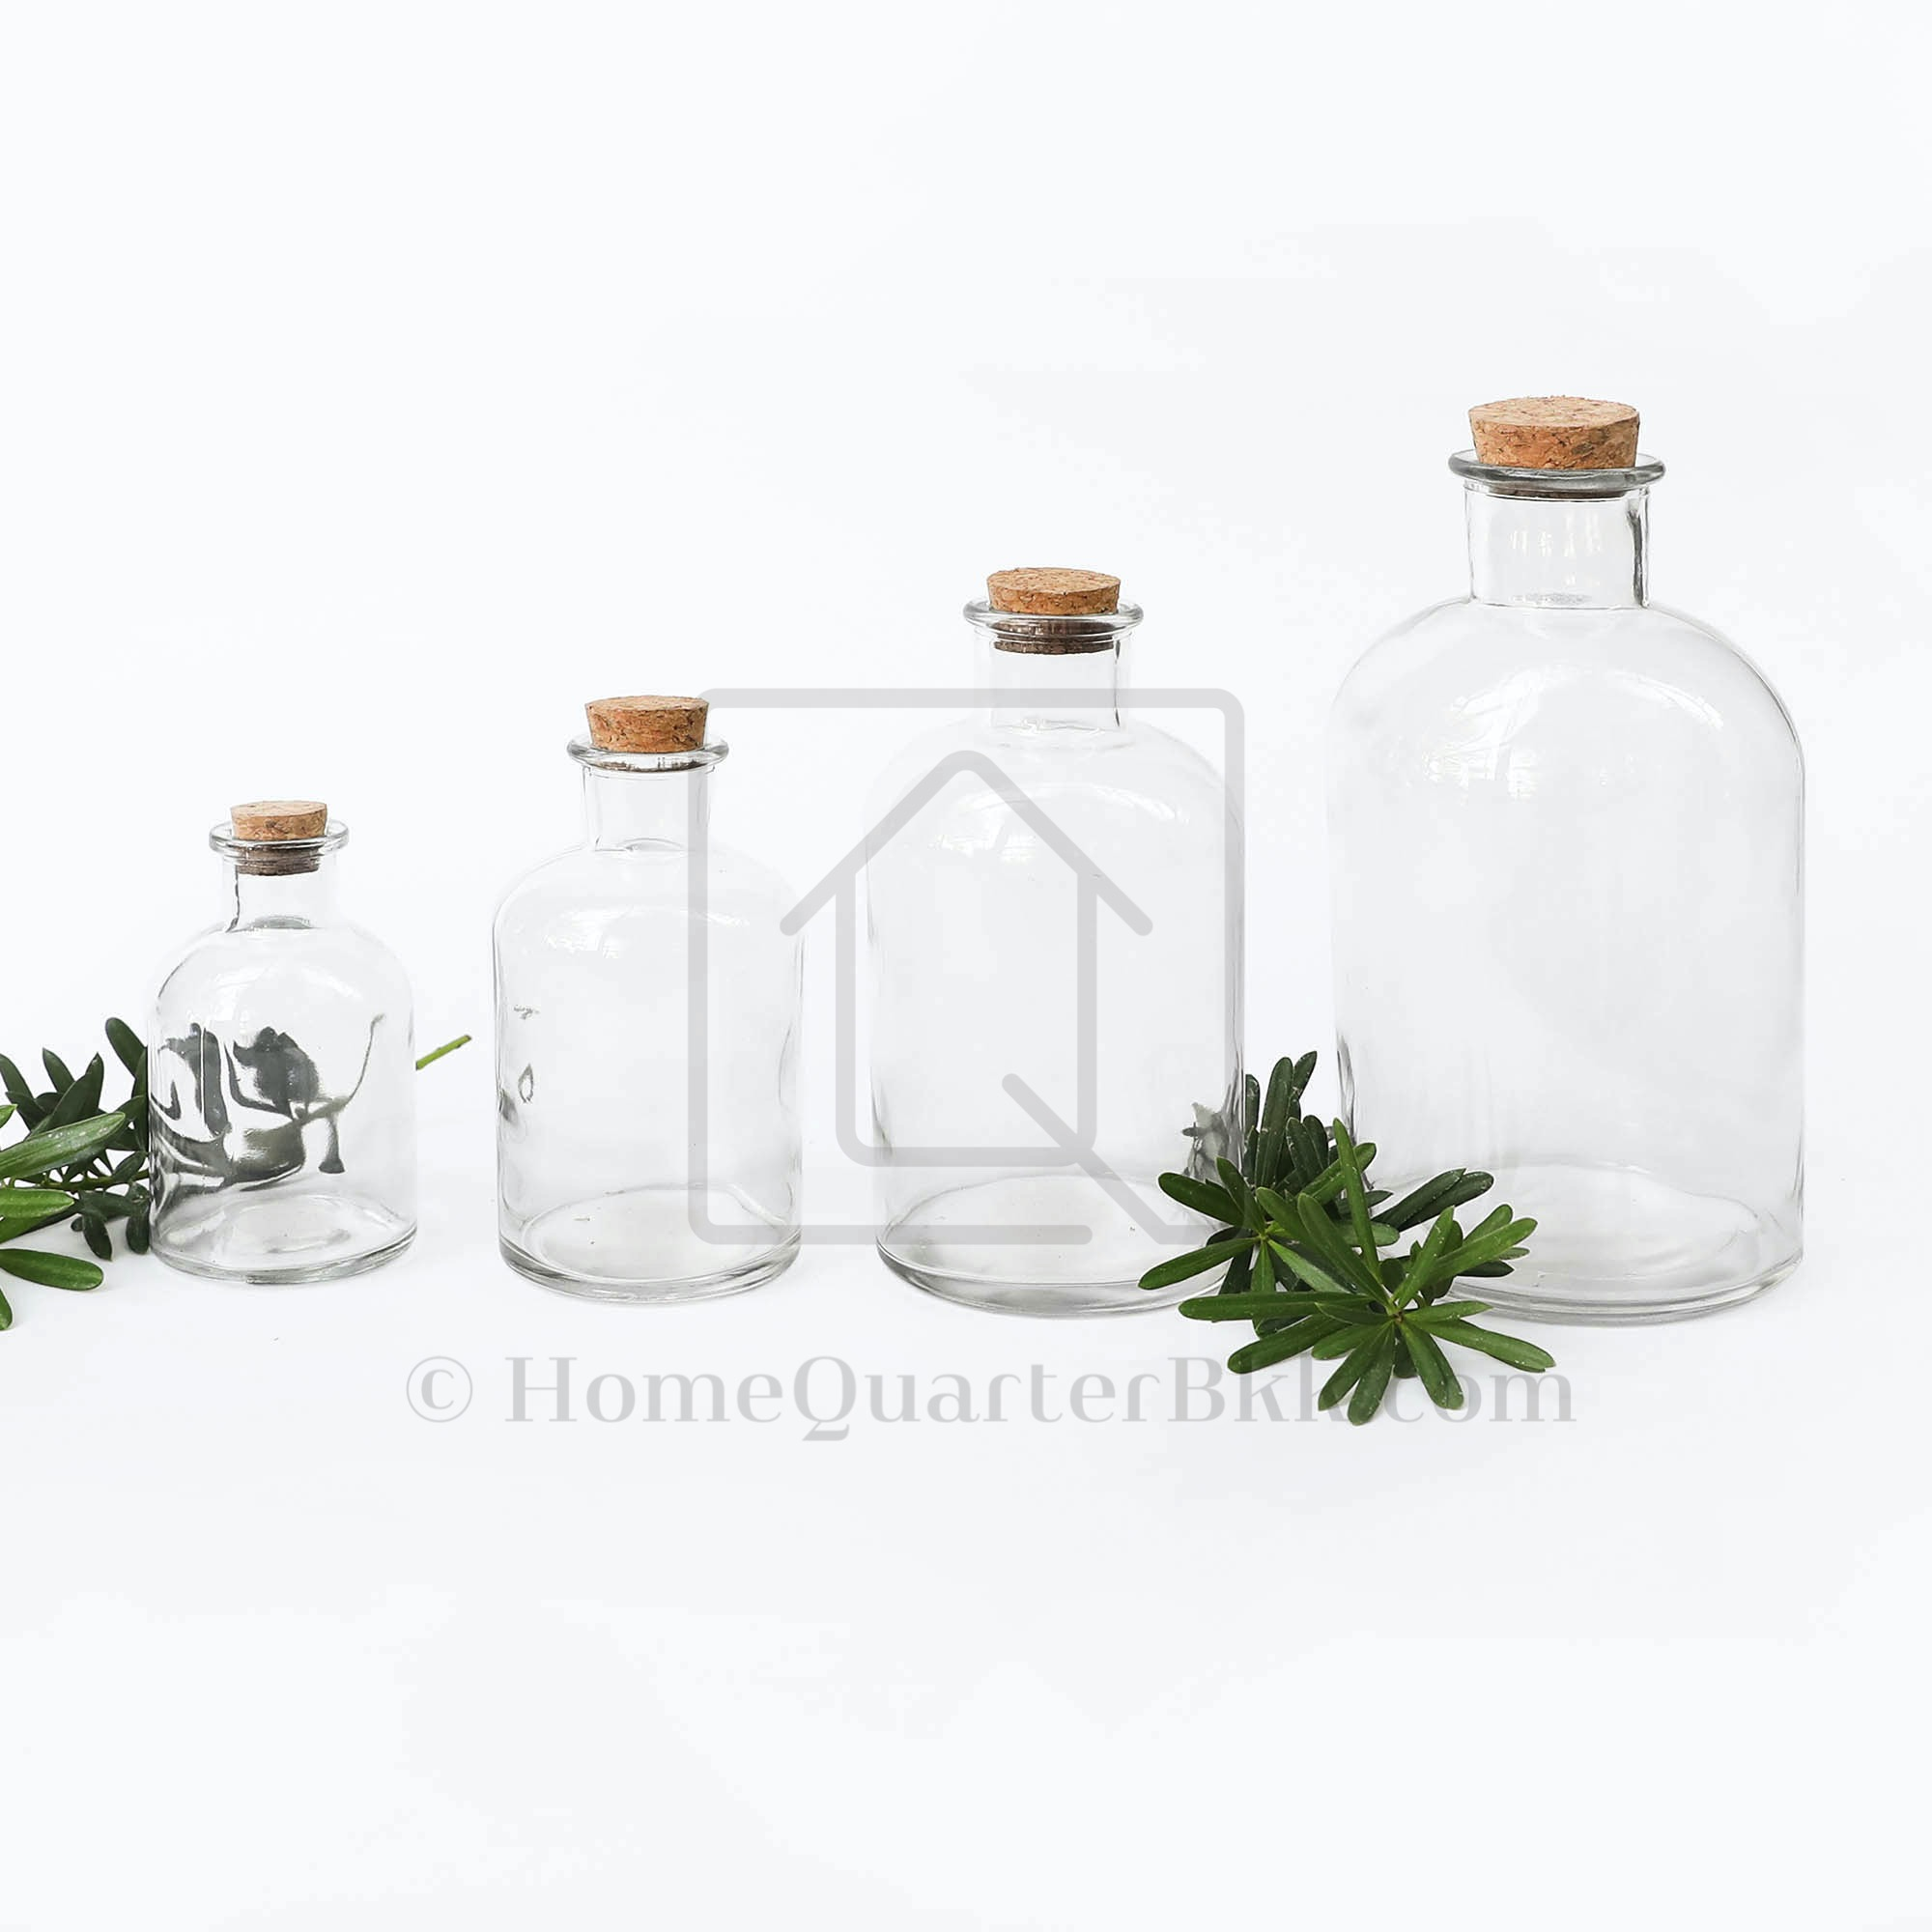glass_bottle: (1281, 359, 1826, 1376), (828, 522, 1274, 1338), (476, 674, 823, 1322), (117, 768, 433, 1316)
